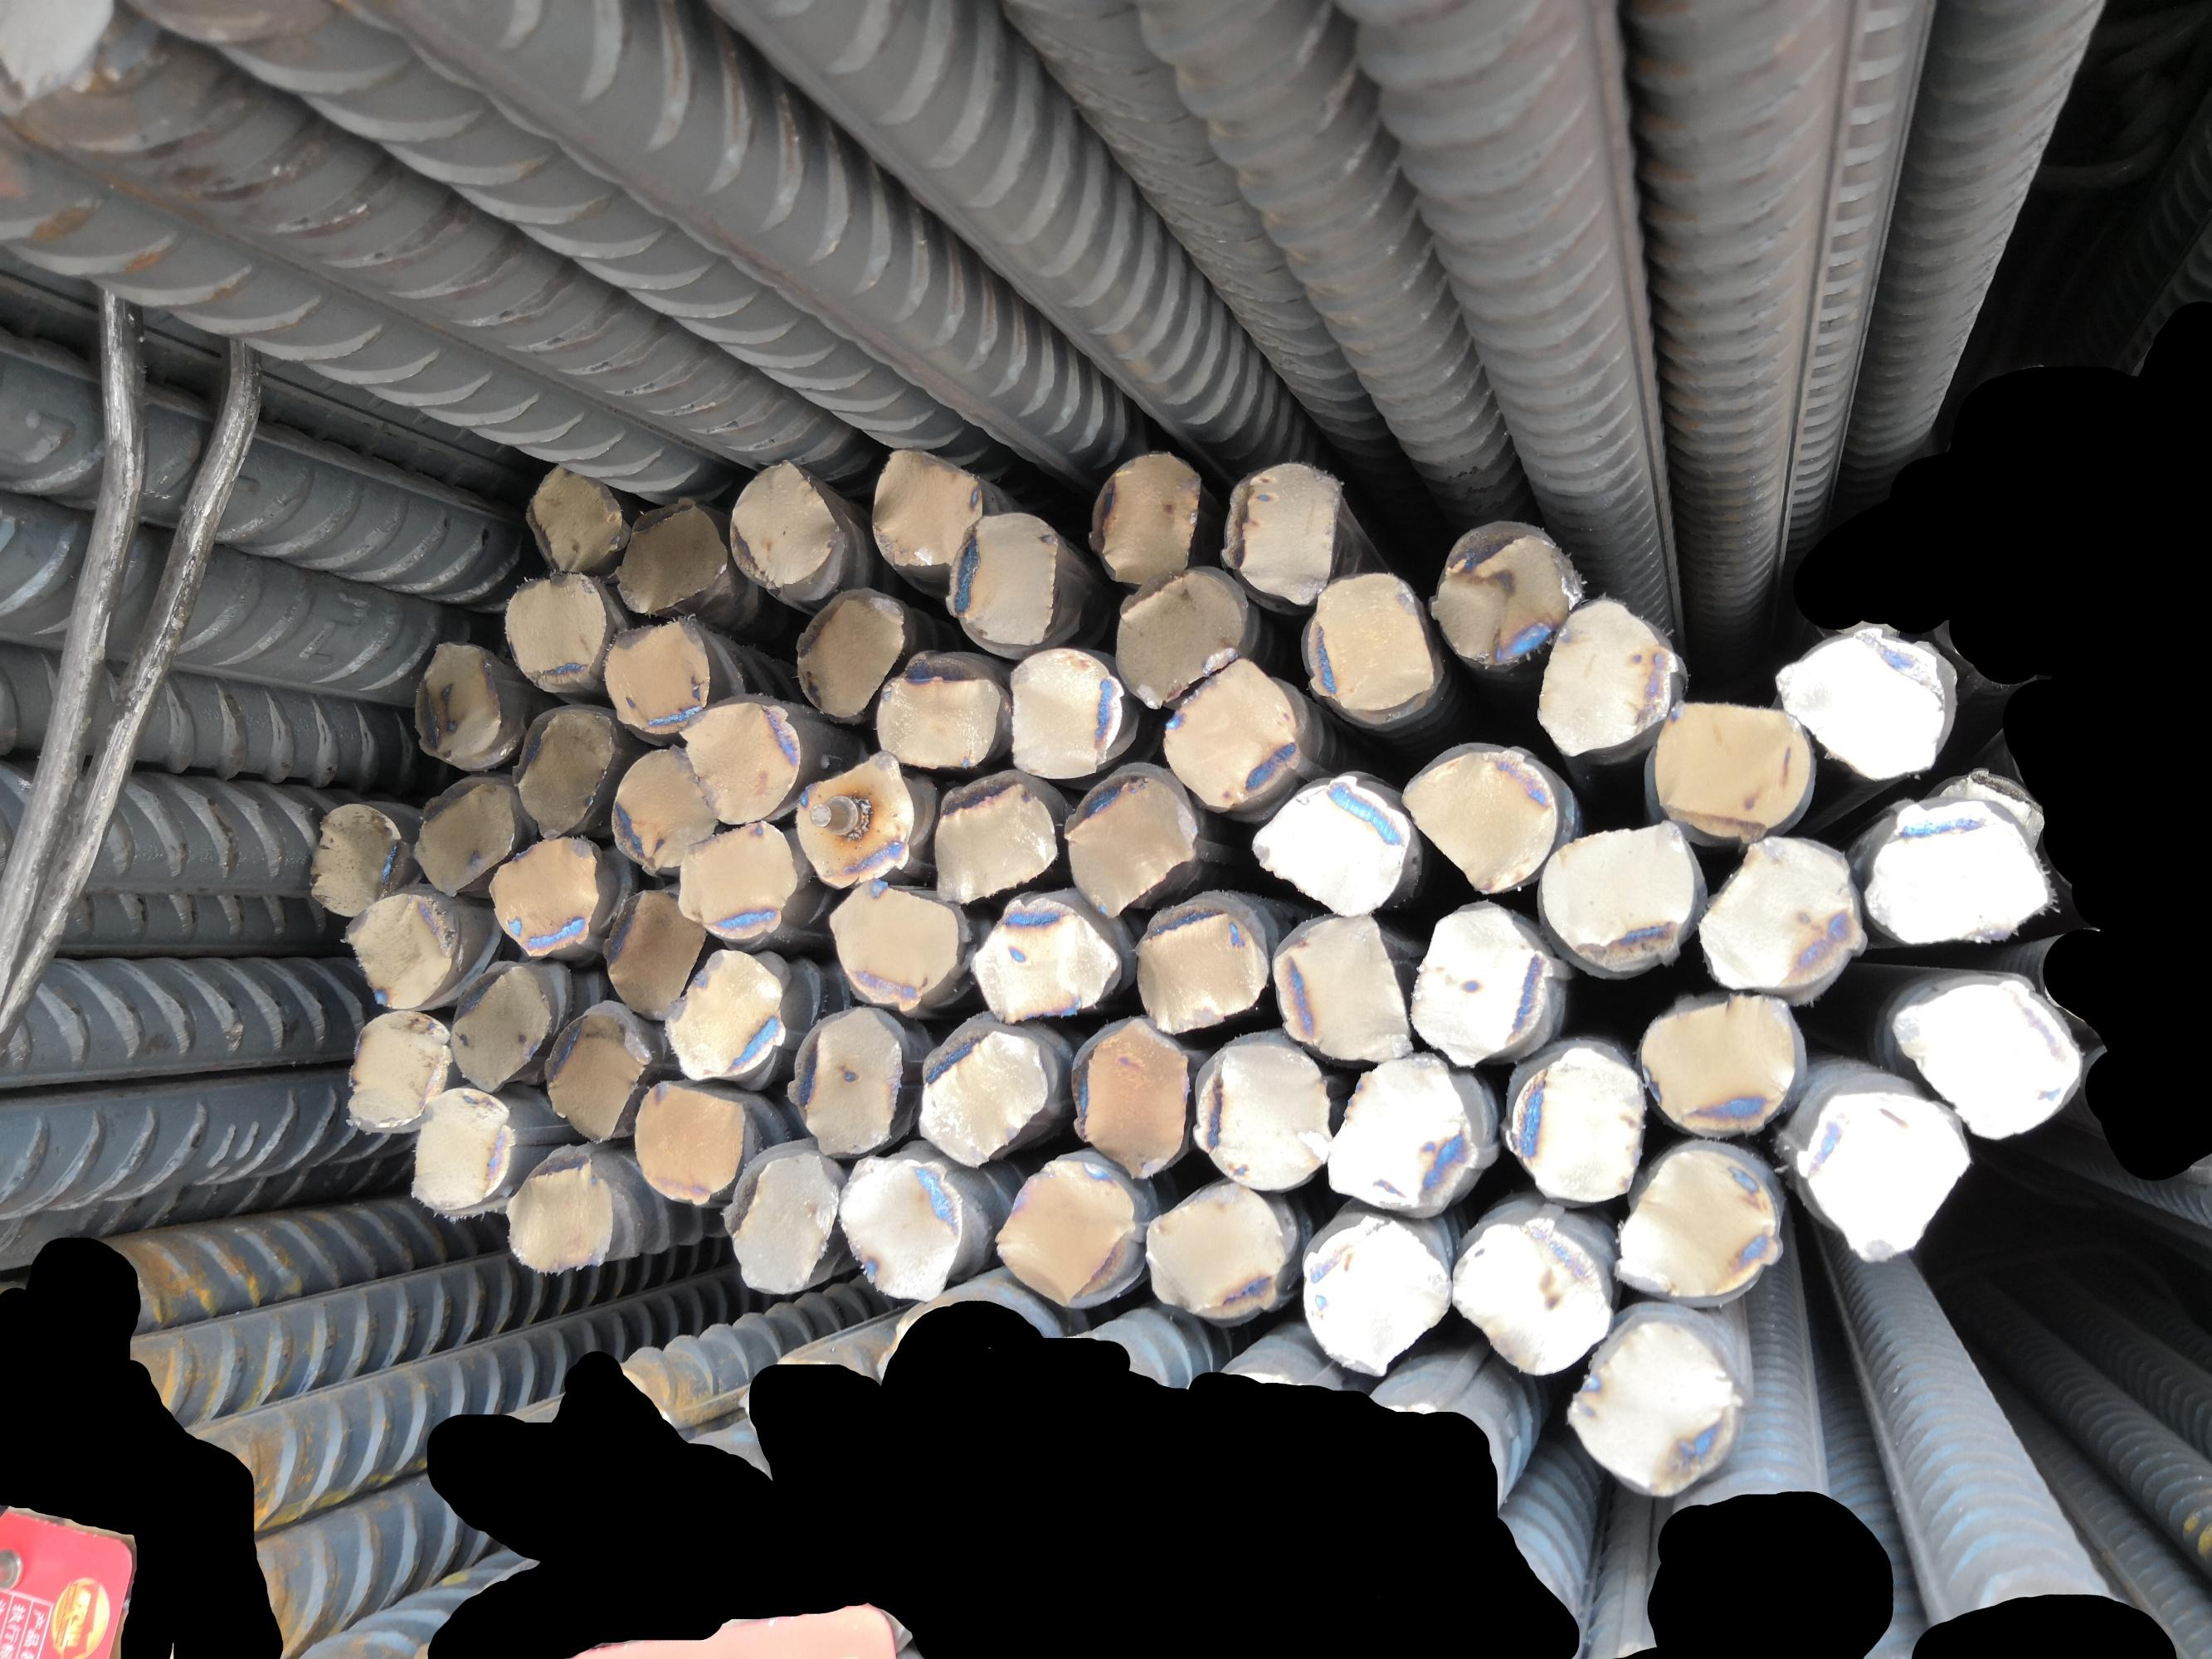bar: (1890, 973, 2084, 1145), (1794, 1080, 1971, 1267), (1570, 1317, 1745, 1501), (1864, 795, 2056, 949), (1772, 623, 1952, 786), (1694, 832, 1865, 998), (1445, 1216, 1615, 1380), (1615, 1143, 1786, 1303), (1299, 1212, 1458, 1378), (1397, 741, 1562, 897), (1405, 899, 1553, 1073), (1327, 1049, 1482, 1214), (1249, 766, 1412, 921), (1638, 989, 1805, 1140), (1646, 698, 1815, 845), (1420, 514, 1583, 666), (1535, 595, 1680, 764), (1537, 822, 1699, 970), (1502, 1043, 1648, 1205), (1157, 653, 1303, 815), (996, 1155, 1142, 1312), (1271, 906, 1415, 1064), (1193, 1033, 1336, 1190), (967, 886, 1123, 1027), (1295, 561, 1436, 717), (1060, 768, 1201, 917), (913, 1019, 1052, 1170), (1142, 1180, 1288, 1323), (834, 1154, 967, 1306), (1068, 1015, 1189, 1181), (1131, 897, 1268, 1040), (823, 873, 961, 1014), (1219, 458, 1347, 608), (1113, 566, 1245, 712), (938, 506, 1063, 657), (653, 946, 790, 1082), (783, 1005, 905, 1155), (792, 748, 918, 891), (722, 1148, 842, 1297), (1006, 639, 1126, 784), (932, 770, 1059, 905), (1084, 448, 1205, 586), (789, 583, 909, 723), (674, 697, 802, 827), (538, 1003, 653, 1147), (872, 650, 1004, 773), (674, 818, 797, 947), (626, 1078, 749, 1207), (339, 884, 461, 1012), (607, 494, 729, 620), (721, 458, 841, 586), (483, 834, 602, 964), (863, 445, 986, 570), (504, 702, 616, 838), (596, 887, 708, 1019), (498, 1152, 619, 1274), (445, 958, 553, 1094), (605, 745, 721, 871), (409, 1085, 515, 1222), (596, 614, 713, 736), (343, 1006, 452, 1134), (501, 568, 611, 693), (412, 772, 519, 898), (405, 638, 507, 764), (521, 460, 626, 572), (305, 800, 404, 917), (1933, 757, 2049, 849)
